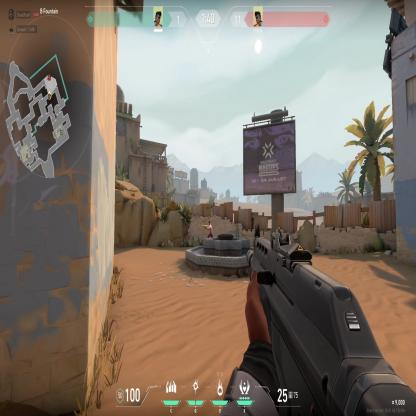enemy: (204, 219, 214, 238)
